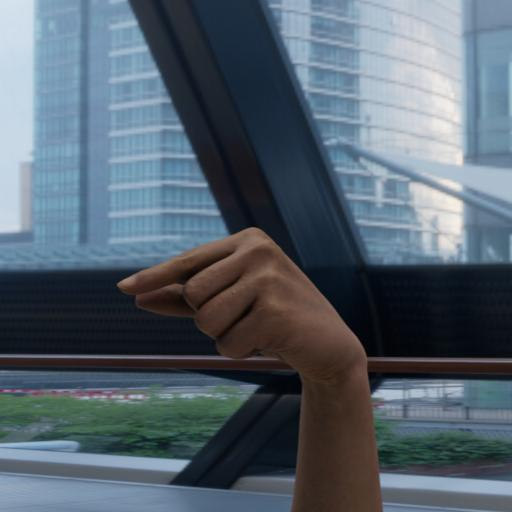G: (109, 219, 398, 421)
